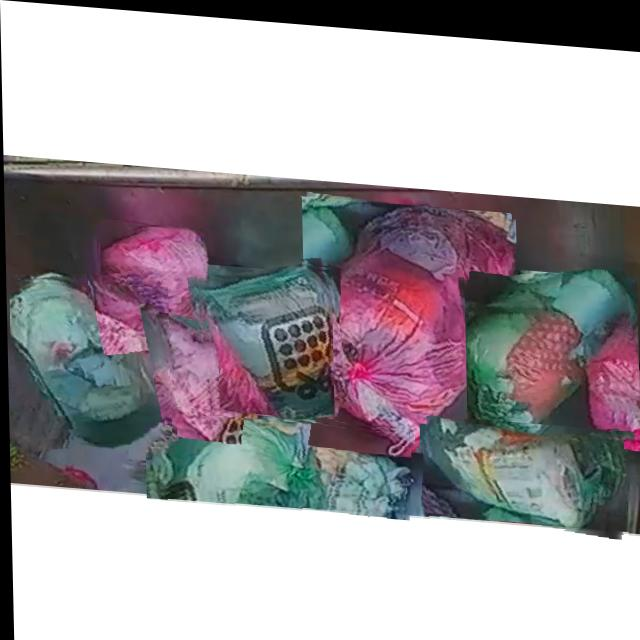general_trashbag: (464, 260, 626, 437), (7, 281, 168, 442), (145, 415, 404, 512), (424, 409, 625, 521), (196, 261, 330, 417)
other_trashbag: (302, 200, 514, 440), (100, 227, 204, 359), (150, 316, 239, 438)
